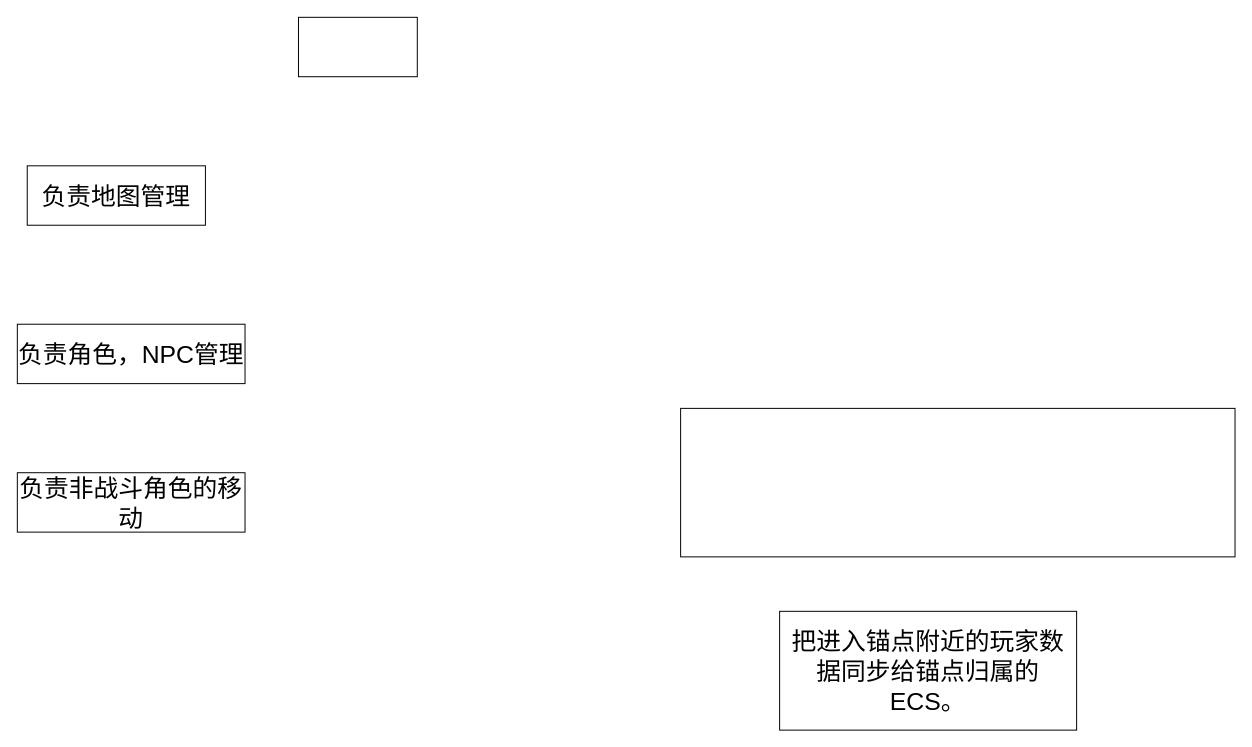
The diagram is 1252 pixels wide and 747 high, and some of its shapes have lost their labels. The centre of each missing label's shape, as x and y in pixels:
"GS" belongs at (357,46).
"首个角色释放技能时，以该玩家坐标为中心创建一个锚点，并把周围玩家指派给一个空闲ECS，进入战斗流程（针对密集型区域，有卡顿的风险）" belongs at (957,482).
